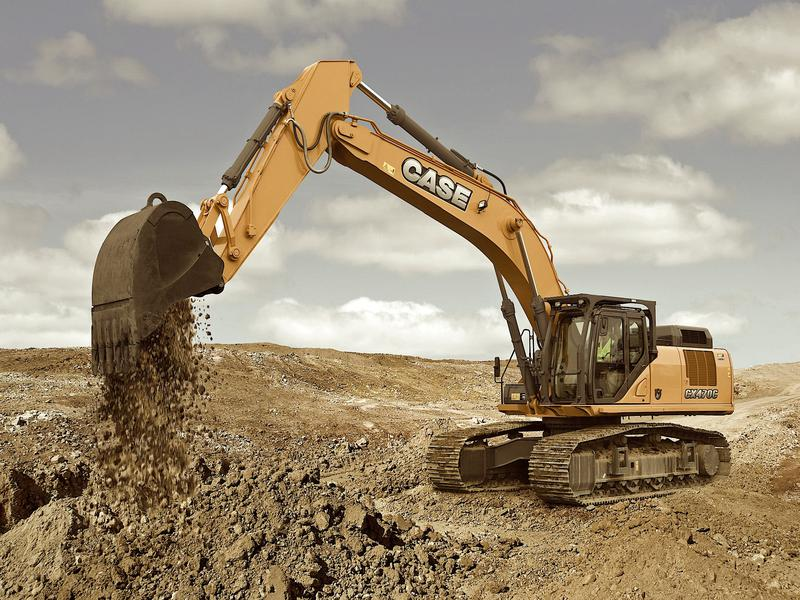shovel: (82, 52, 740, 499)
